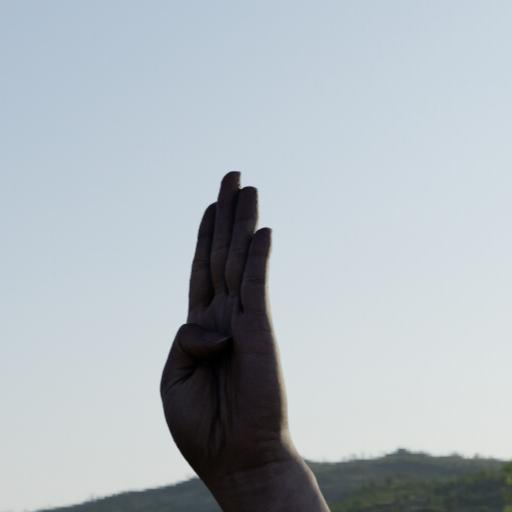B: (144, 145, 339, 505)
